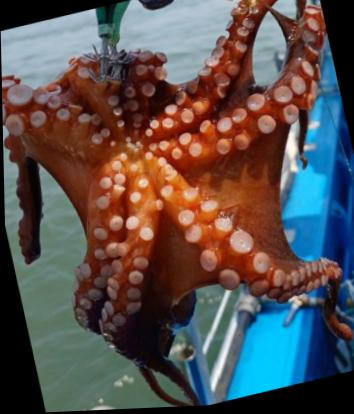Cephalopod: (1, 0, 353, 408)
